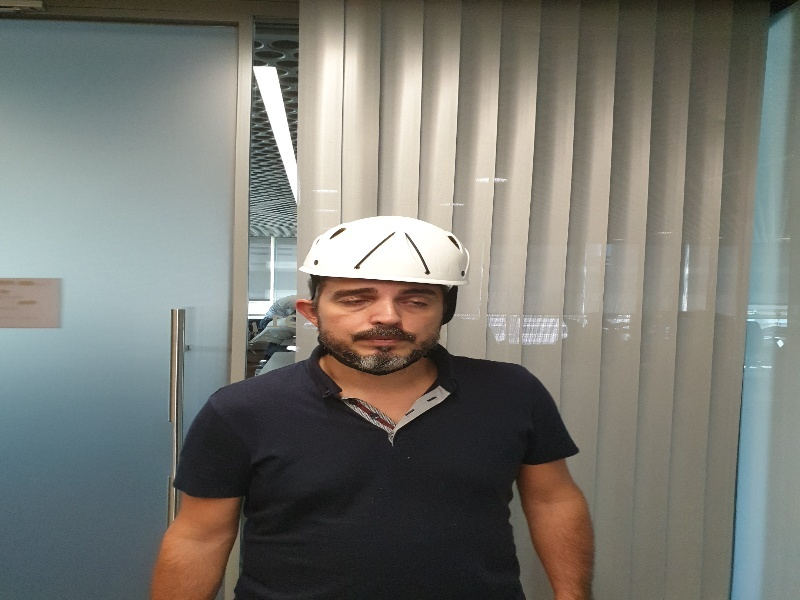Baret: (305, 216, 476, 288)
